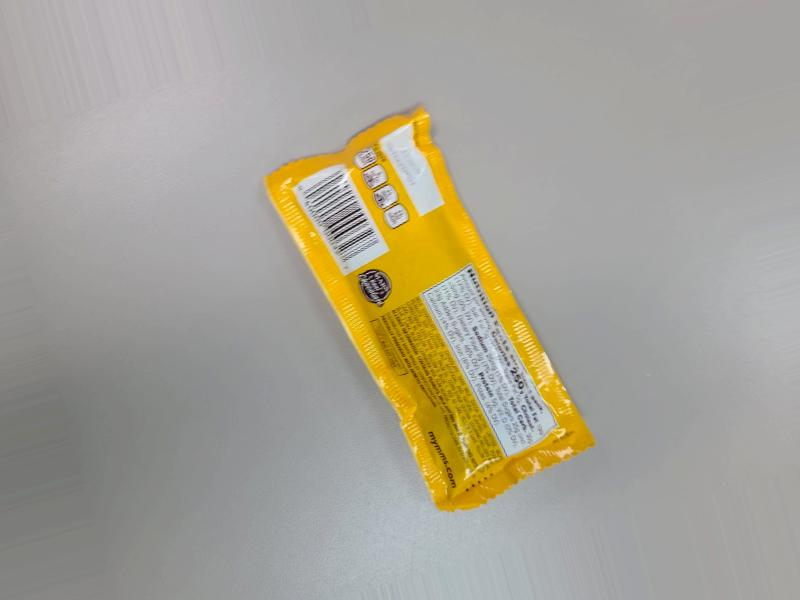m&m: (232, 64, 612, 540)
